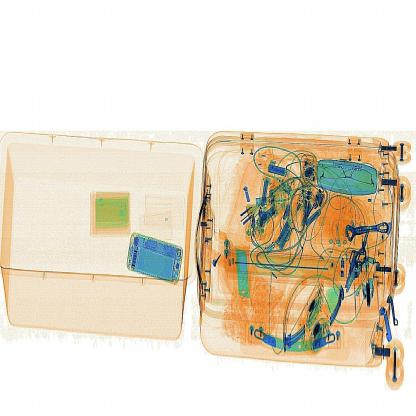pliers: (229, 238, 248, 318)
